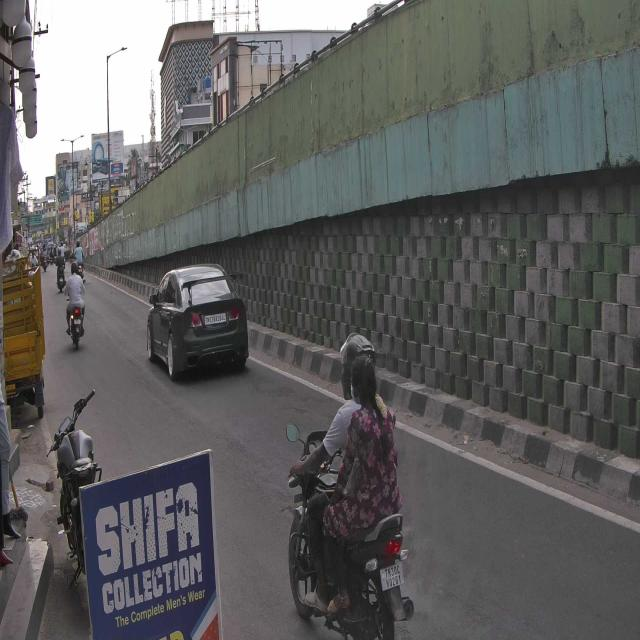double_rider: (285, 328, 413, 640)
